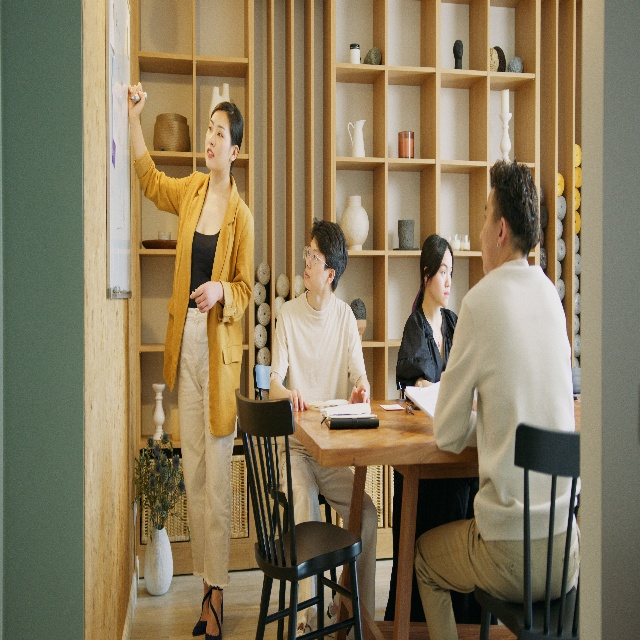Gafas: (303, 245, 330, 268)
Sin_guantes: (189, 279, 221, 315), (127, 82, 145, 121), (348, 382, 371, 405), (288, 386, 307, 412)
